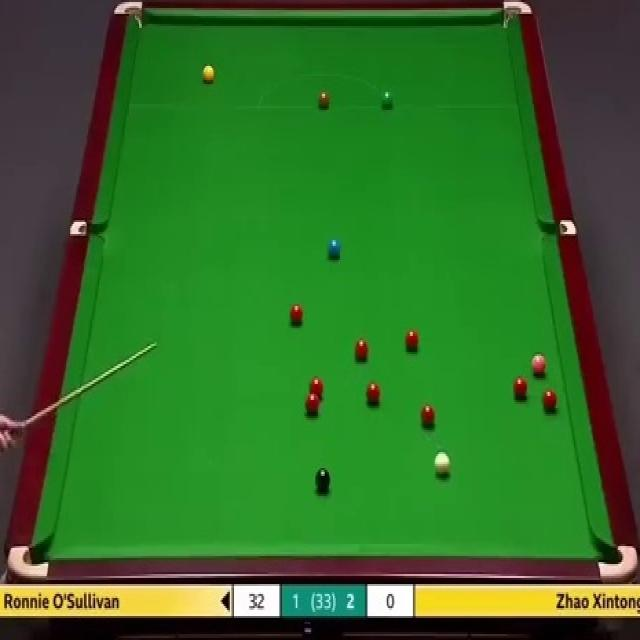black-ball: (313, 467, 332, 494)
blue-ball: (328, 239, 341, 261)
brown-ball: (318, 93, 330, 110)
green-ball: (382, 90, 393, 110)
pink-ball: (531, 353, 548, 378)
red-ball: (288, 300, 305, 326), (541, 387, 558, 413), (405, 327, 420, 352), (420, 404, 435, 428), (367, 382, 381, 407), (304, 393, 320, 413), (513, 378, 528, 399), (356, 338, 369, 361), (308, 379, 324, 397)
white-ball: (433, 451, 451, 479)
yellow-ball: (202, 66, 216, 86)
